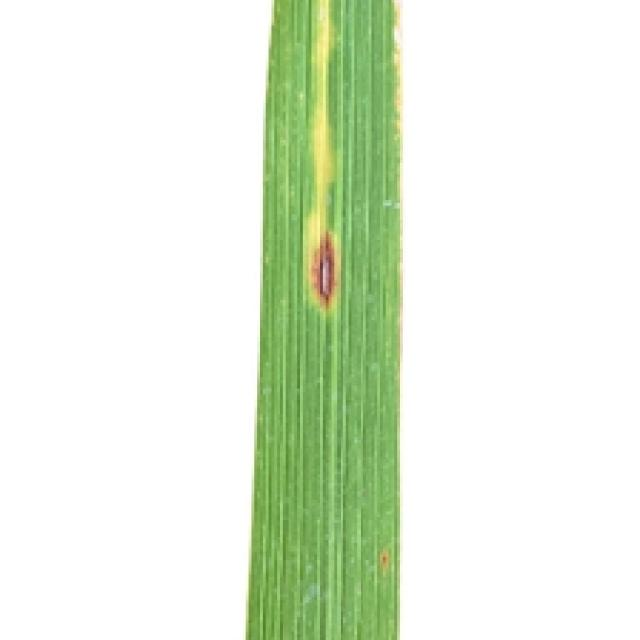Rice___Rice_Blast: (246, 0, 402, 637)
